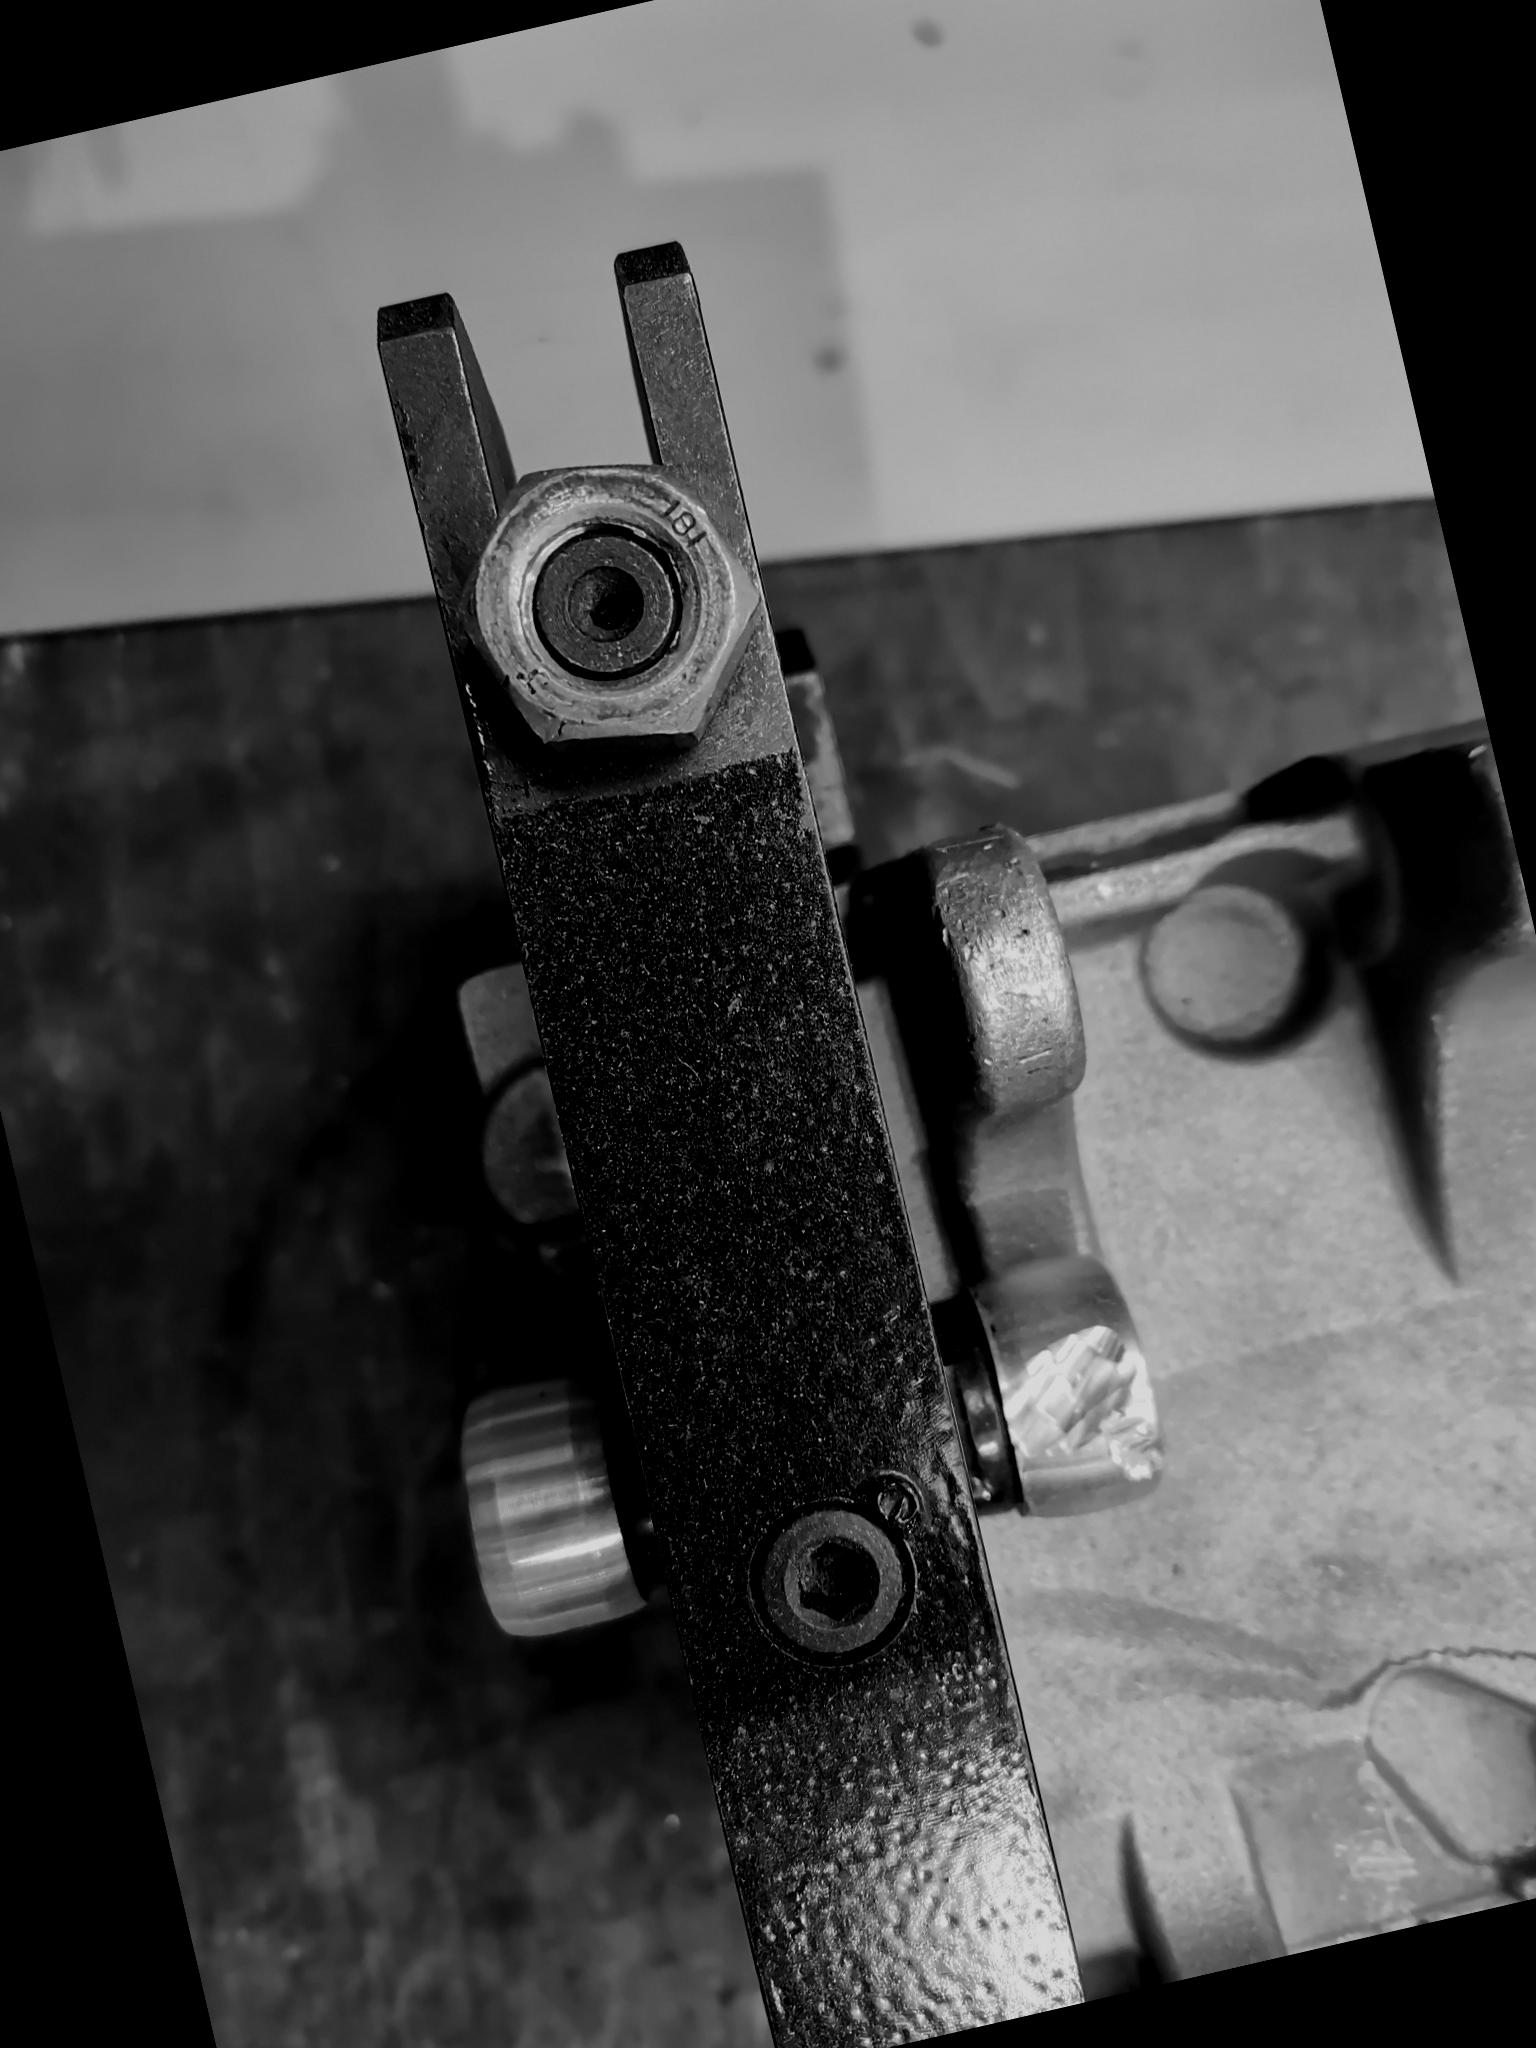screw: (413, 421, 803, 800), (724, 1479, 950, 1701)
